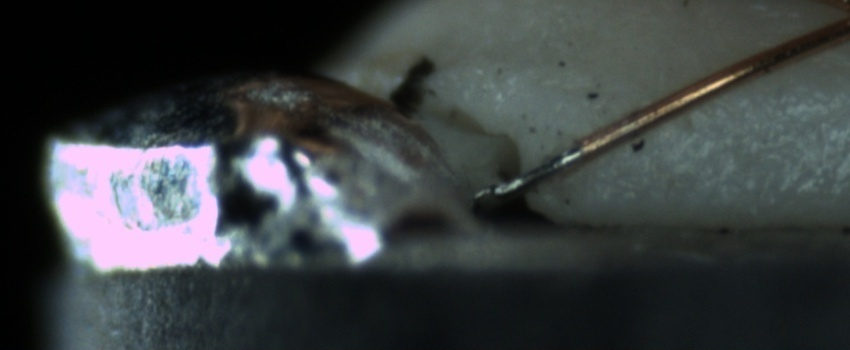TS: (487, 144, 582, 199)
TTCW: (490, 123, 620, 199)
